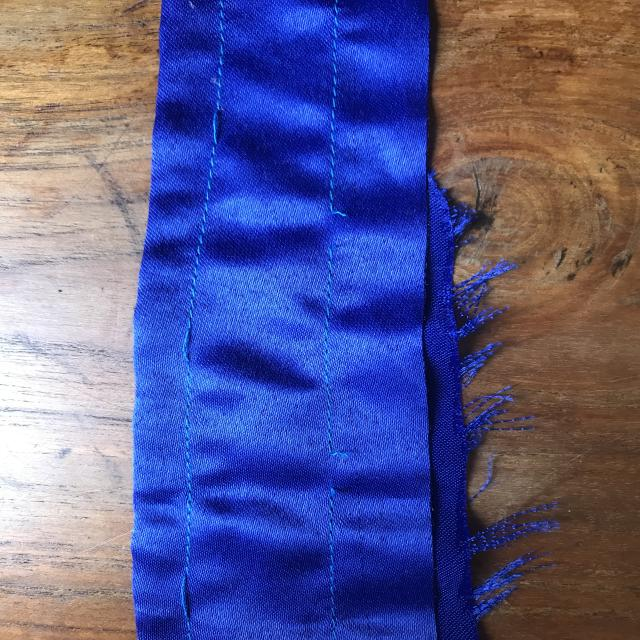skip: (161, 316, 212, 375), (196, 91, 243, 151)
